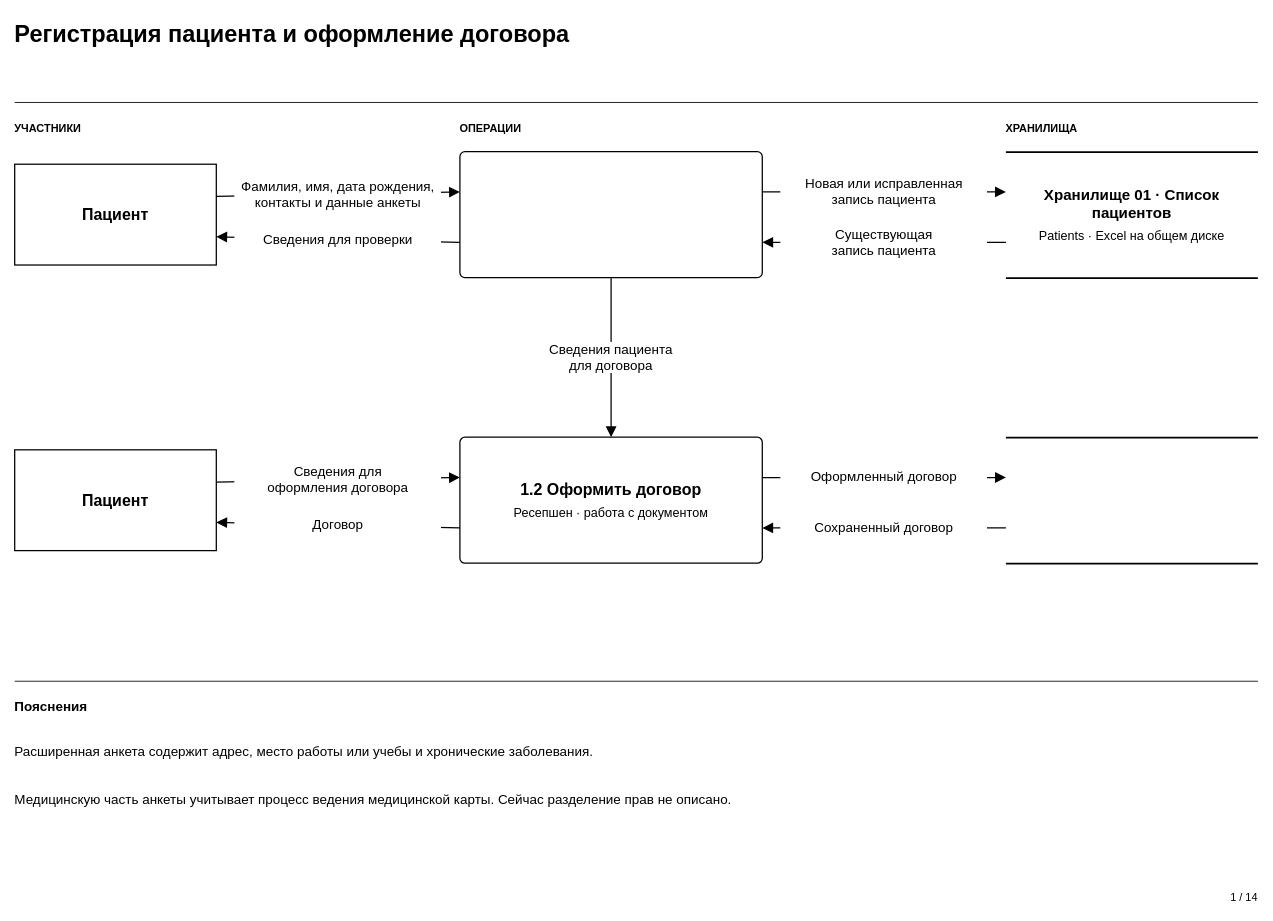
Some shapes in this 1273 by 921 pixel diagram are drawn without their labels. Here are the shapes that lost their labels. From the top down, the centre of each, then its label:
(611,214): 1.1 Зарегистрировать пациента Ресепшен · ручной ввод
(1131,500): Хранилище 02 · Договоры Документы в папке пациента
